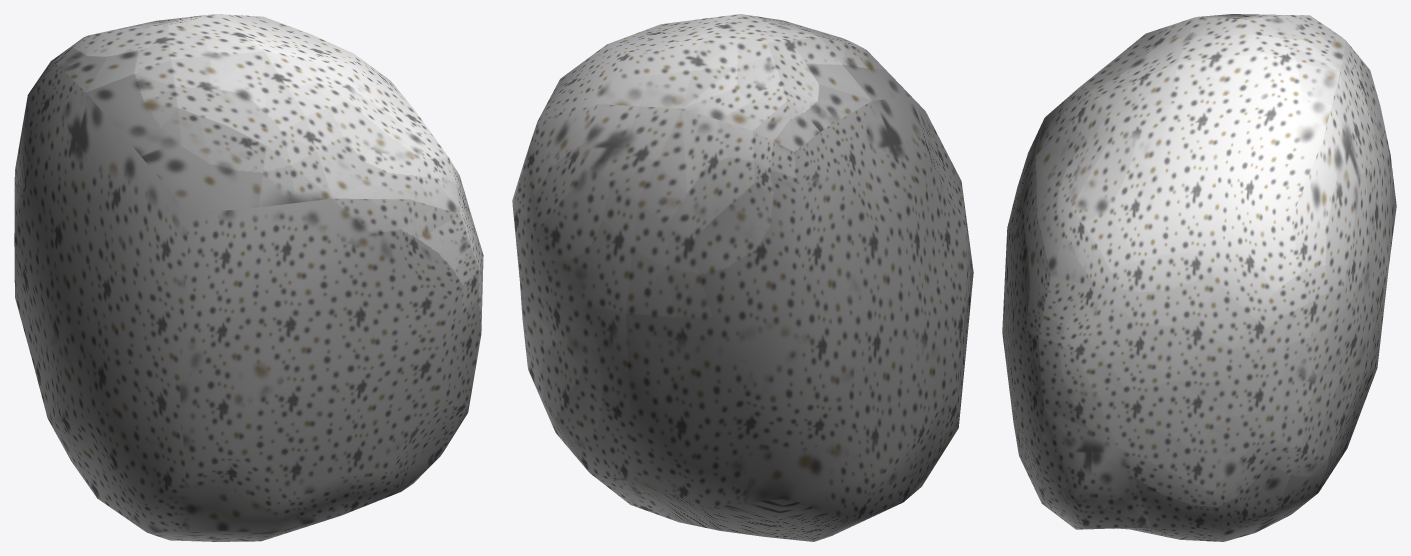
Rendered from rock1.glb.
3 renders of one model, left to right at view 1: azimuth 30°, elevation 25°; view 2: azimuth 150°, elevation 25°; view 3: azimuth 270°, elevation 25°, orthographic. The views are drawn at different scales.
Parts seen in each view (by area): view 1: rock-convcol; view 2: rock-convcol; view 3: rock-convcol.
Part boxes in pixels (box(x1,y1,x2,y2)): rock-convcol: box(14, 14, 483, 541); rock-convcol: box(512, 14, 973, 541); rock-convcol: box(1002, 14, 1396, 541).
Size of the model in its own units: 2.13 by 2.6 by 1.97.
1 material, 1 textured.
